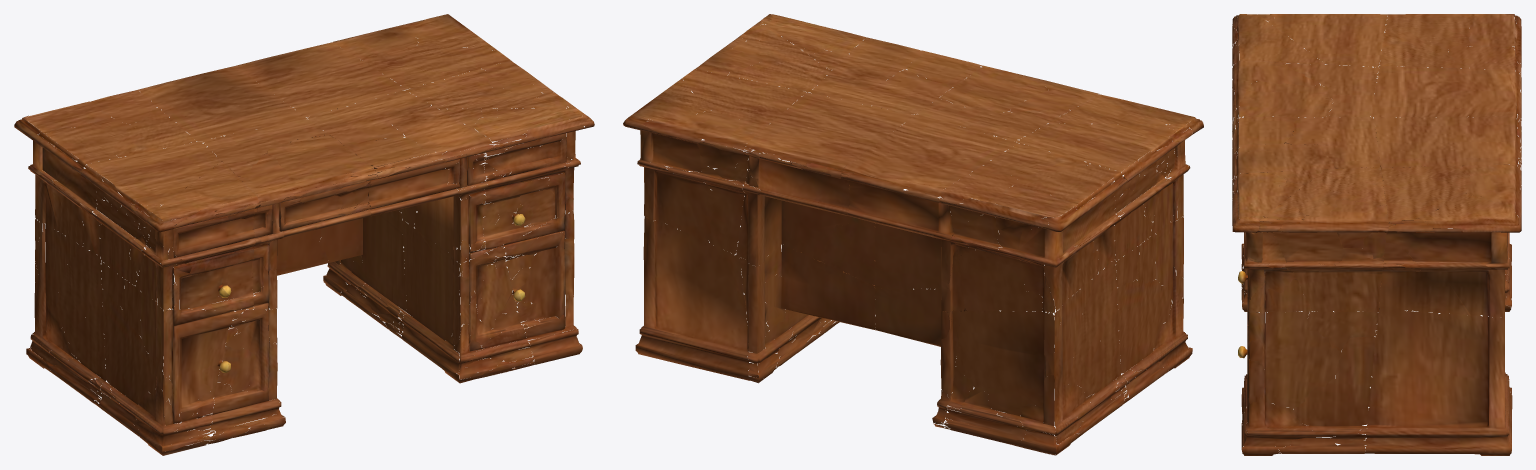
File: tripo-desk.glb
3 views of the same model, side by side, from view 1: azimuth 30°, elevation 25°; view 2: azimuth 150°, elevation 25°; view 3: azimuth 270°, elevation 25° (orthographic).
Parts seen in each view (by area): view 1: tripo_node_3639c06d-206c-4d56-9dcd-f49e24a372a1; view 2: tripo_node_3639c06d-206c-4d56-9dcd-f49e24a372a1; view 3: tripo_node_3639c06d-206c-4d56-9dcd-f49e24a372a1.
Boxes of the visible parts, box(x1,y1,x2,y2) form: tripo_node_3639c06d-206c-4d56-9dcd-f49e24a372a1: box(14, 14, 594, 455); tripo_node_3639c06d-206c-4d56-9dcd-f49e24a372a1: box(623, 14, 1203, 455); tripo_node_3639c06d-206c-4d56-9dcd-f49e24a372a1: box(1232, 14, 1521, 455).
Bounding box in the file's own units: 0.9817 × 0.5155 × 0.5669.
Materials: 1 (1 with a texture image).
